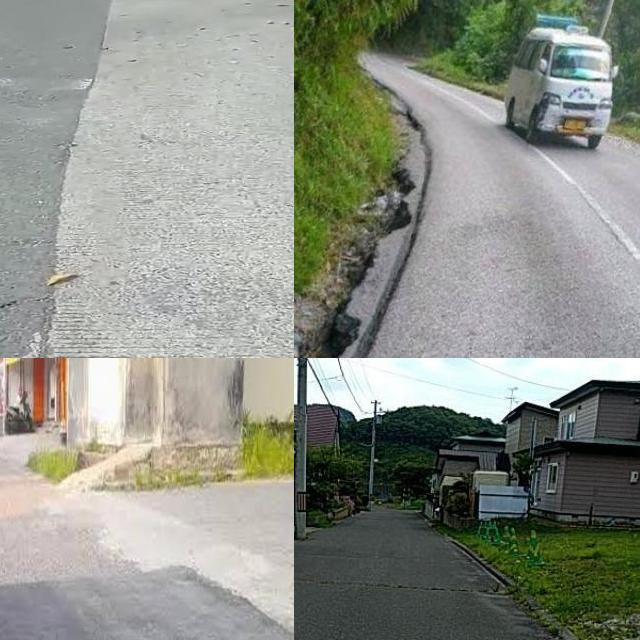Pinggir: (294, 111, 447, 358)
Sambungan: (50, 0, 294, 358)
